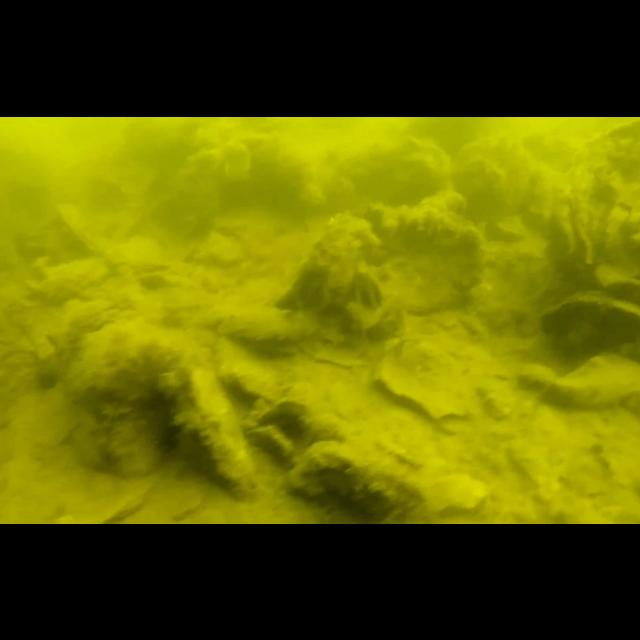Oyster-Closed: (274, 210, 402, 346), (68, 340, 182, 482), (162, 354, 266, 498), (364, 202, 484, 321), (274, 442, 430, 524), (569, 118, 640, 281), (538, 292, 640, 352), (538, 352, 640, 408), (29, 254, 110, 298)
Oyster-Open: (222, 312, 316, 360), (250, 394, 316, 456), (106, 232, 170, 280)
